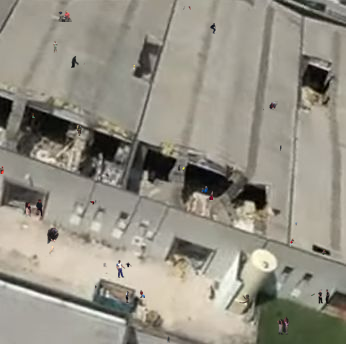Human: (22, 199, 43, 224), (103, 260, 132, 278), (31, 227, 59, 244), (191, 186, 213, 200), (277, 316, 290, 335), (43, 245, 62, 257), (56, 10, 73, 22), (318, 289, 330, 305), (71, 56, 85, 68), (238, 294, 250, 307), (263, 101, 278, 111), (125, 291, 132, 303), (76, 124, 82, 136), (177, 165, 186, 173), (210, 23, 216, 34), (53, 41, 58, 53), (290, 238, 296, 247), (90, 200, 100, 205), (140, 290, 145, 298), (322, 249, 328, 255), (183, 6, 191, 10), (0, 166, 4, 174), (167, 336, 170, 343), (32, 113, 35, 118), (133, 64, 135, 71), (280, 145, 282, 151), (311, 293, 315, 296), (295, 222, 298, 226), (95, 285, 97, 290)
